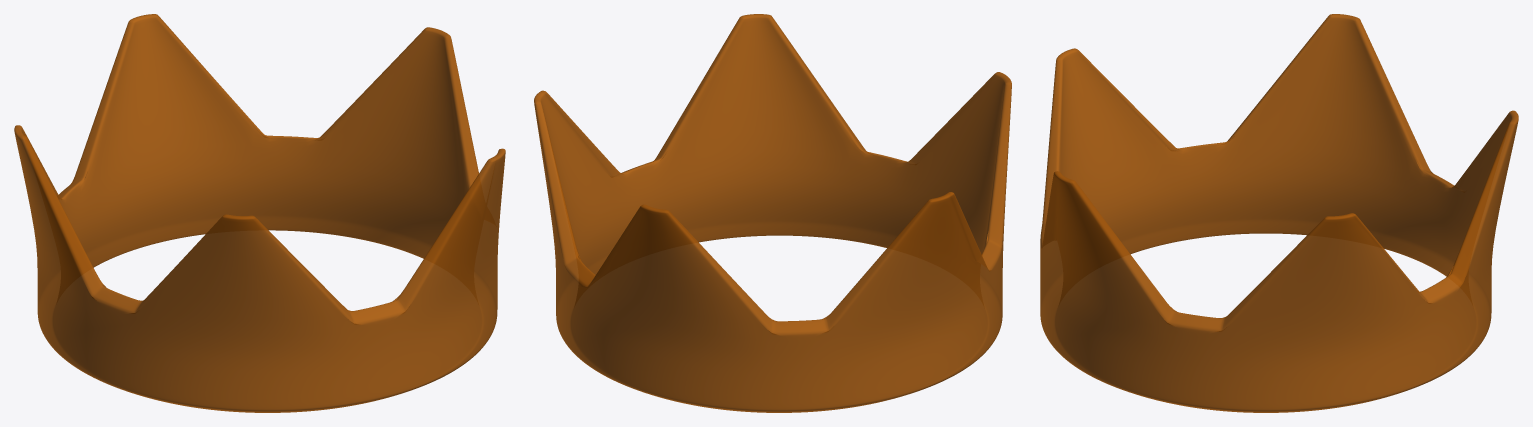
File: Crown.fbx
The picture shows the model from 3 angles, left to right: view 1: azimuth 30°, elevation 25°; view 2: azimuth 150°, elevation 25°; view 3: azimuth 270°, elevation 25°; orthographic projection. The views are drawn at different scales.
Visible parts, largest first — view 1: Gold Crown; view 2: Gold Crown; view 3: Gold Crown.
Boxes of the visible parts, <box> form: Gold Crown: <box>14,14,505,412</box>; Gold Crown: <box>534,14,1011,412</box>; Gold Crown: <box>1040,14,1518,412</box>.
Bounding box in the file's own units: 217 × 214 × 103.
